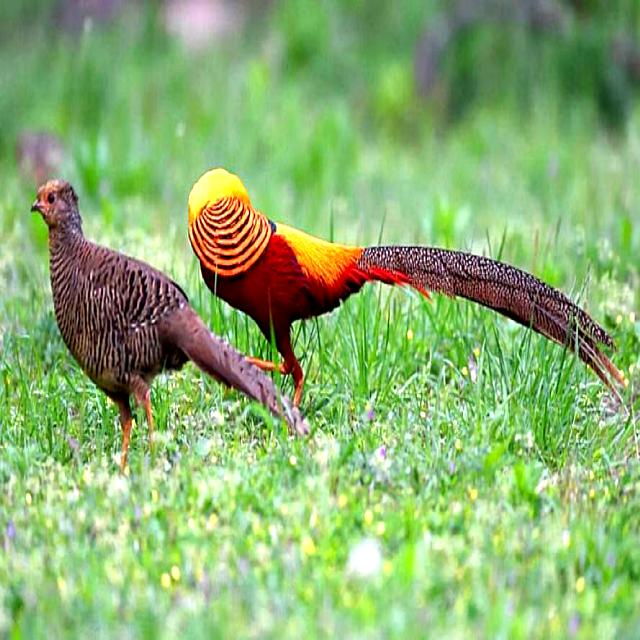Chrysolophus pictus feather: (357, 246, 626, 392)
